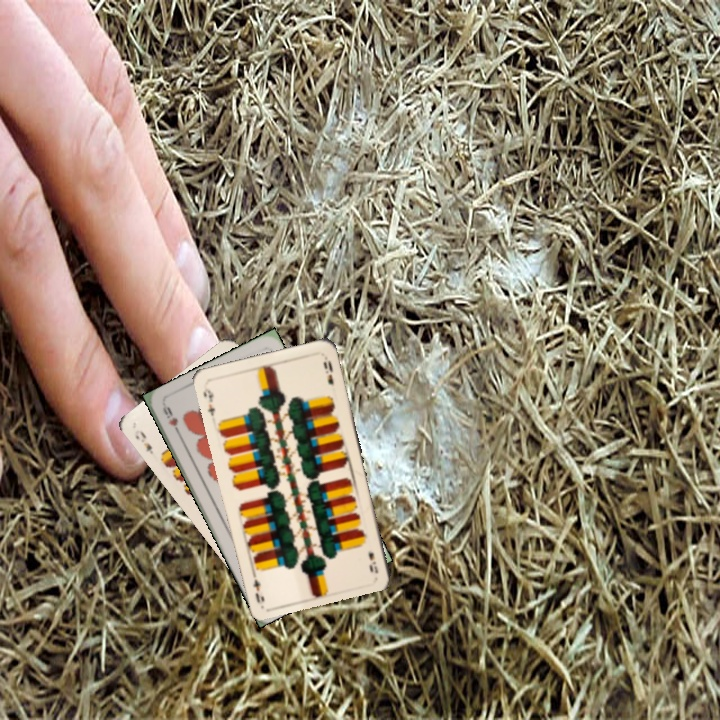E9: (199, 384, 217, 419), (136, 427, 156, 457), (364, 546, 381, 576)
H9: (158, 401, 184, 439)
